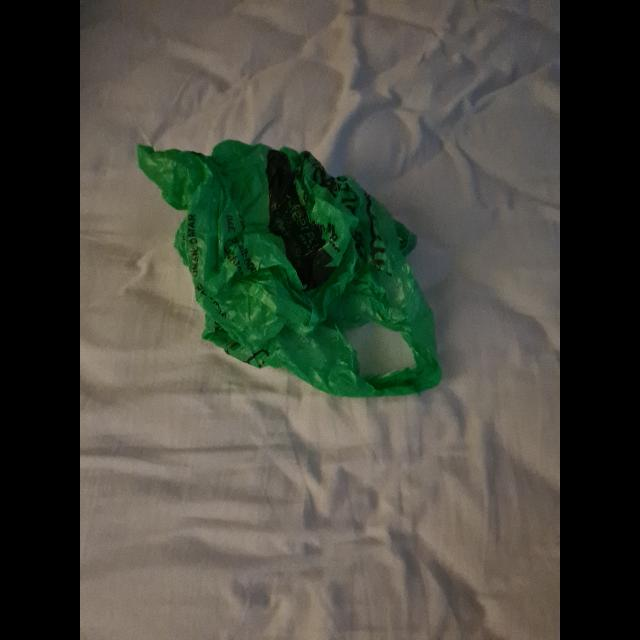plastic_bag: (130, 132, 446, 414)
